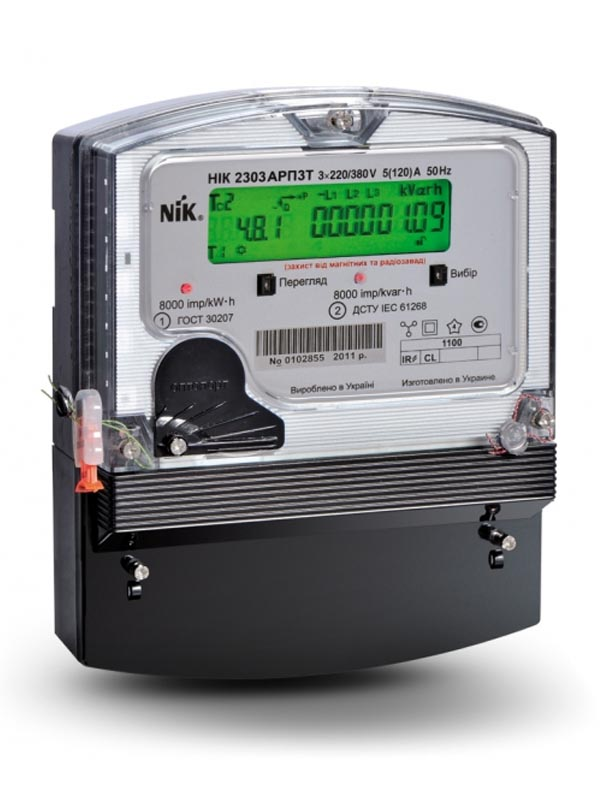counter: (95, 87, 561, 629)
counter_screen: (203, 175, 460, 266)
